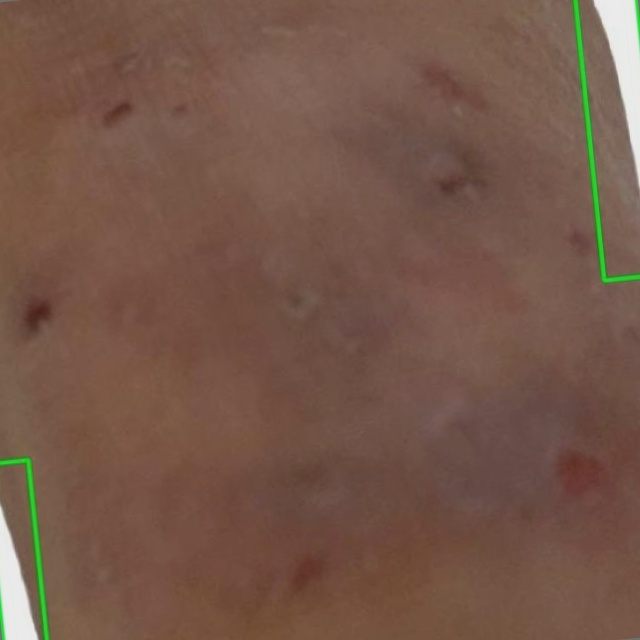Tinea Corporis: (575, 0, 639, 280), (0, 460, 46, 639)
